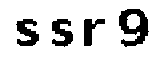9: (116, 6, 149, 50)
r: (81, 17, 107, 50)
s: (3, 17, 41, 49), (50, 17, 75, 49)
